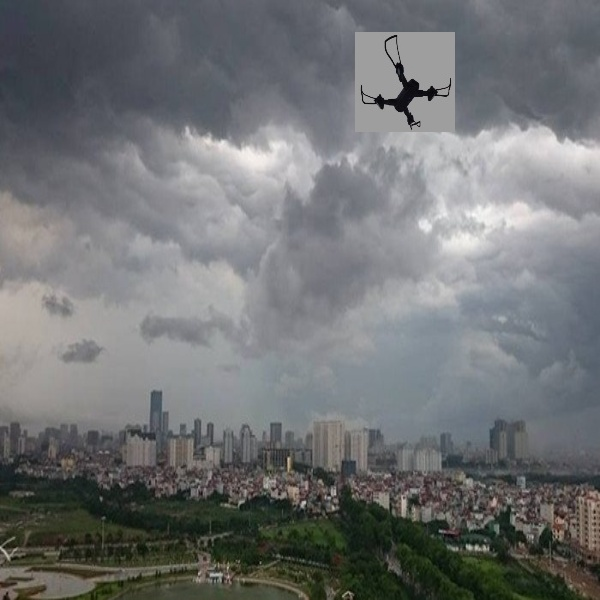drone: (356, 33, 456, 128)
